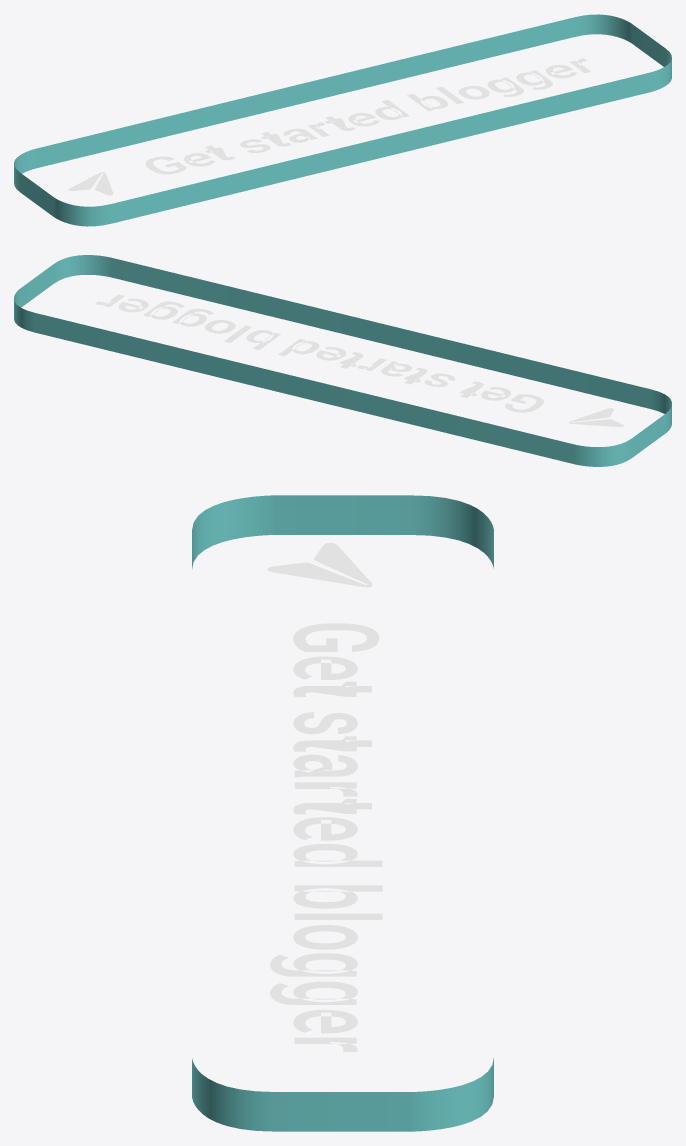
The model's file is bloggerButton.gltf.
3 renders of one model, top to bottom at view 1: azimuth 30°, elevation 25°; view 2: azimuth 150°, elevation 25°; view 3: azimuth 270°, elevation 25°, orthographic. The views are drawn at different scales.
Parts seen in each view (by area): view 1: Curve.002, Curve.001, Curve; view 2: Curve.002, Curve.001, Curve; view 3: Curve.002, Curve.001, Curve.
Part boxes in pixels (x1,y1,x2,y2): Curve.002: [14, 14, 671, 226]; Curve.001: [145, 58, 590, 174]; Curve: [68, 172, 113, 195]; Curve.002: [14, 255, 671, 466]; Curve.001: [95, 294, 543, 412]; Curve: [568, 408, 624, 426]; Curve.002: [192, 495, 493, 1131]; Curve.001: [270, 623, 382, 1051]; Curve: [267, 542, 372, 587].
Size of the model in its own units: 0.6624 by 0.0205 by 0.1417.
